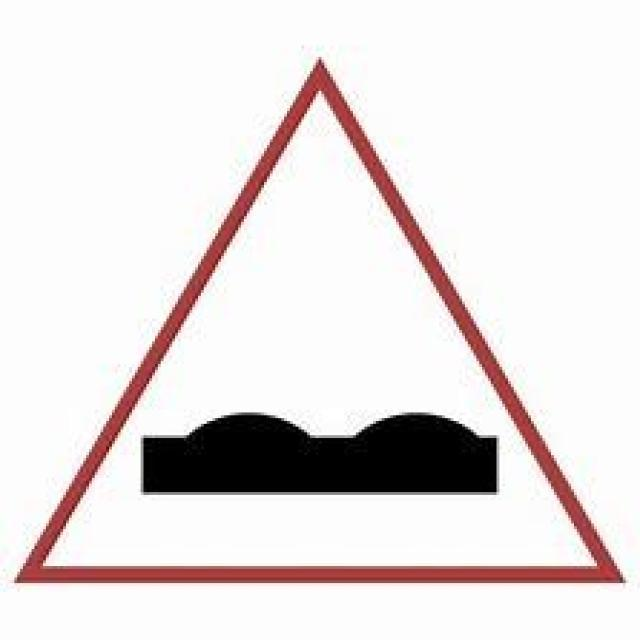hump or rough road: (22, 56, 625, 586)
